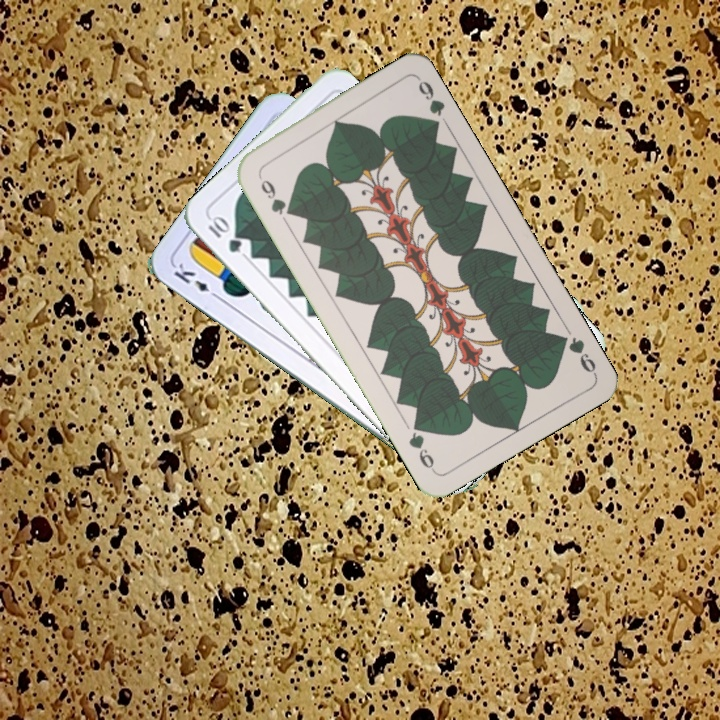EK: (169, 259, 223, 302)
G10: (204, 212, 245, 256)
G9: (553, 330, 599, 378), (256, 175, 296, 219)
